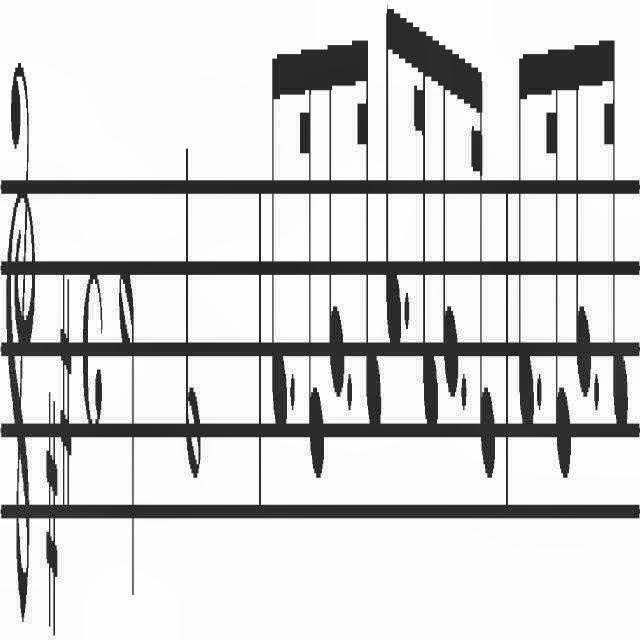Bass-clef: (6, 55, 36, 630)
Diez: (59, 258, 72, 514), (45, 388, 57, 640)
Eighth-note: (438, 34, 462, 398), (326, 26, 346, 404), (572, 21, 592, 398), (517, 24, 535, 440), (272, 29, 288, 453), (384, 4, 402, 356)
Half-note: (183, 126, 201, 496), (119, 262, 138, 606)
Sixteenth-note: (299, 36, 325, 488), (546, 2, 570, 482), (604, 7, 630, 435), (472, 32, 496, 482), (414, 1, 438, 436), (358, 22, 382, 444)
